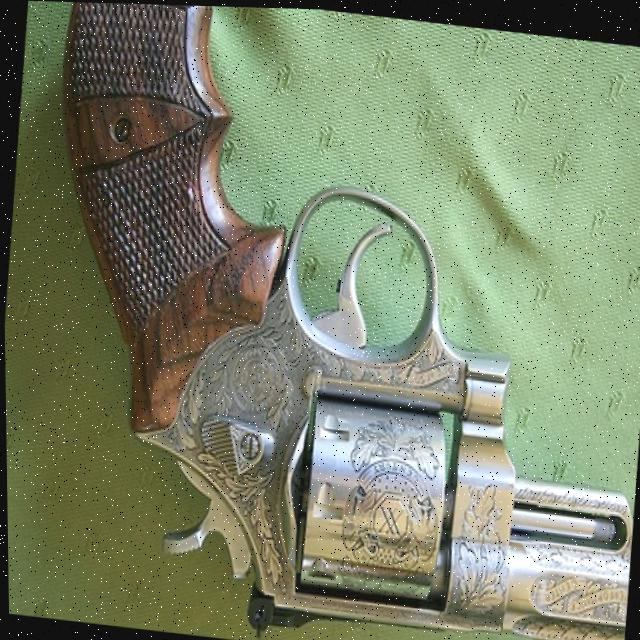pistol: (8, 0, 640, 640)
